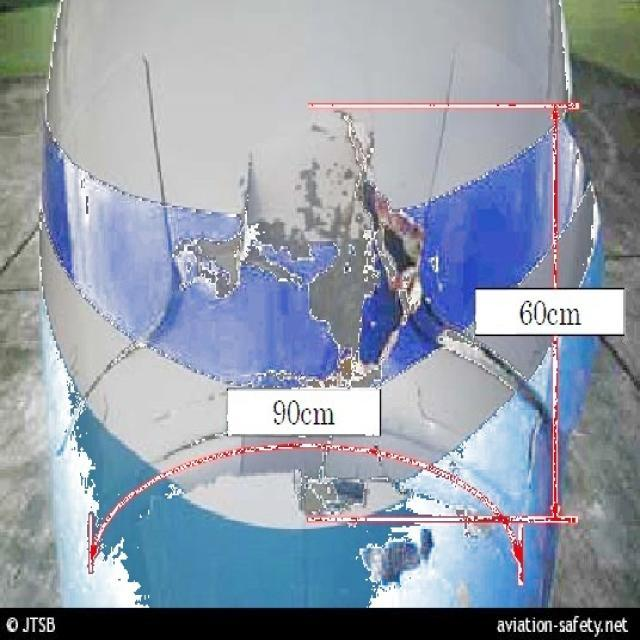crack: (342, 114, 552, 437), (230, 149, 259, 295)
